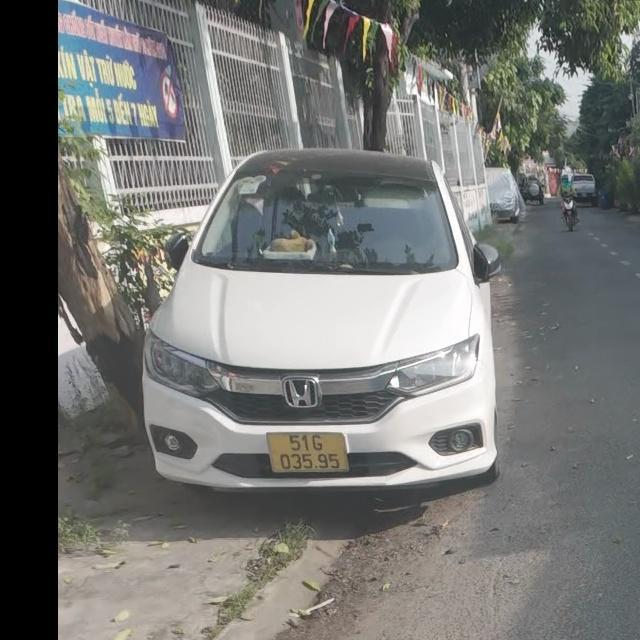car: (141, 142, 513, 502)
plate: (254, 422, 356, 478)
